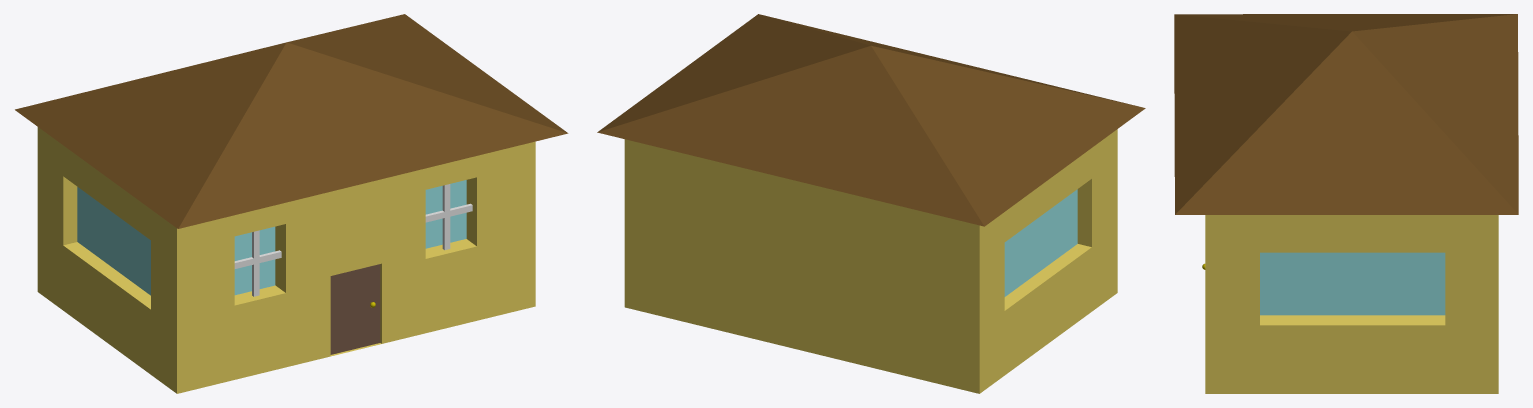
Rendered from House1.fbx.
3 renders of one model, left to right at view 1: azimuth 30°, elevation 25°; view 2: azimuth 150°, elevation 25°; view 3: azimuth 270°, elevation 25°, orthographic. The views are drawn at different scales.
Visible parts, largest first — view 1: pCube12, pCone1, pCube19, pCube6, pCube14, pCube13, pCube16, pCube15; view 2: pCube12, pCone1, pCube19; view 3: pCone1, pCube12, pCube20.
Part boxes in pixels (x1,y1,x2,y2): pCube12: (37,127,535,393); pCone1: (15,14,568,228); pCube19: (77,187,150,295); pCube6: (330,264,380,354); pCube14: (425,180,466,248); pCube13: (234,226,275,295); pCube16: (442,184,450,250); pCube15: (252,230,259,296); pCube12: (624,129,1117,393); pCone1: (597,14,1145,226); pCube19: (1004,189,1077,296); pCone1: (1174,14,1518,214); pCube12: (1205,215,1498,393); pCube20: (1260,252,1445,315).
Size of the model in its own units: 14.14 by 8.87 by 10.25.
